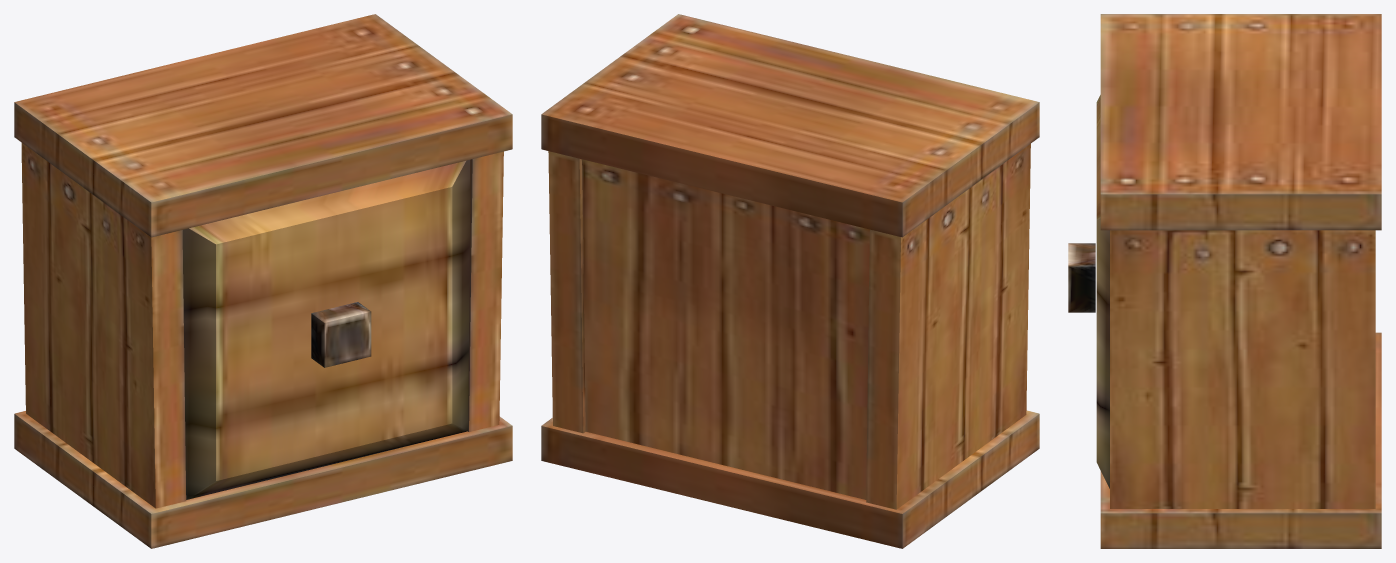
3 views of the same model, side by side, from view 1: azimuth 30°, elevation 25°; view 2: azimuth 150°, elevation 25°; view 3: azimuth 270°, elevation 25° (orthographic). The views are drawn at different scales.
Parts seen in each view (by area): view 1: SM_box_00; view 2: SM_box_00; view 3: SM_box_00.
Boxes of the visible parts, x1=… form: SM_box_00: x1=14, y1=14, x2=512, y2=548; SM_box_00: x1=541, y1=14, x2=1039, y2=548; SM_box_00: x1=1068, y1=14, x2=1381, y2=548.
Bounding box in the file's own units: 0.5403 × 0.495 × 0.3963.
Materials: 1 (1 with a texture image).
